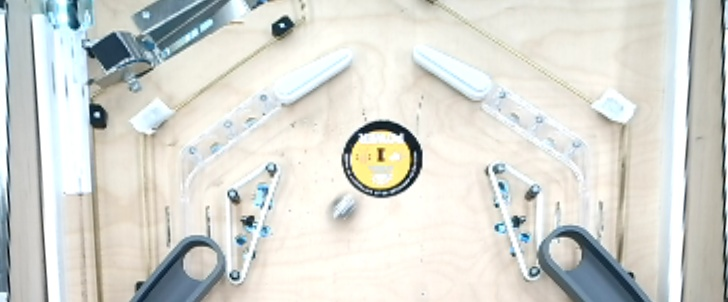ball: (325, 188, 361, 229)
flipper-left: (407, 41, 496, 103)
flipper-right: (268, 46, 355, 106)
